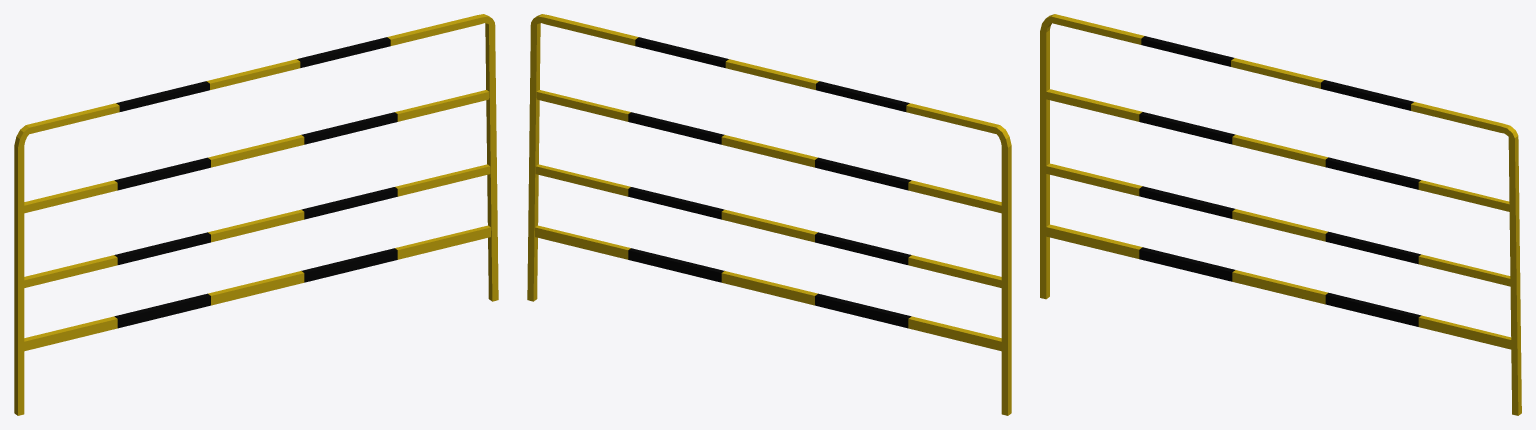
Rendered from M_Barriere_01.obj.
3 renders of one model, left to right at view 1: azimuth 30°, elevation 25°; view 2: azimuth 150°, elevation 25°; view 3: azimuth 330°, elevation 25°, orthographic.
Parts seen in each view (by area): view 1: Cube; view 2: Cube; view 3: Cube.
Part boxes in pixels (bbox=[...]): Cube: bbox=[14, 14, 498, 415]; Cube: bbox=[527, 14, 1011, 415]; Cube: bbox=[1040, 14, 1521, 415].
Bounding box in the file's own units: 3.75 × 2.14 × 0.0487.
